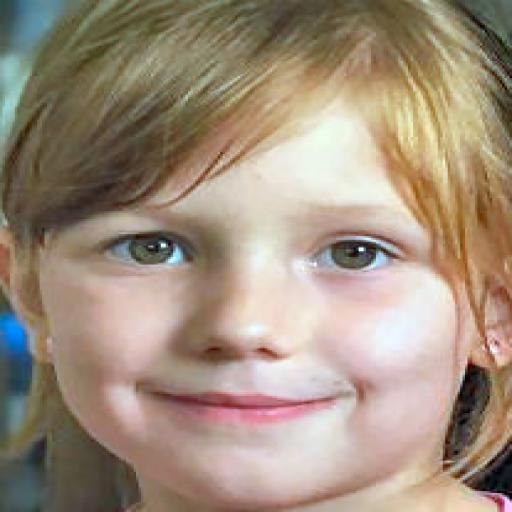Autism: (32, 4, 512, 511)
